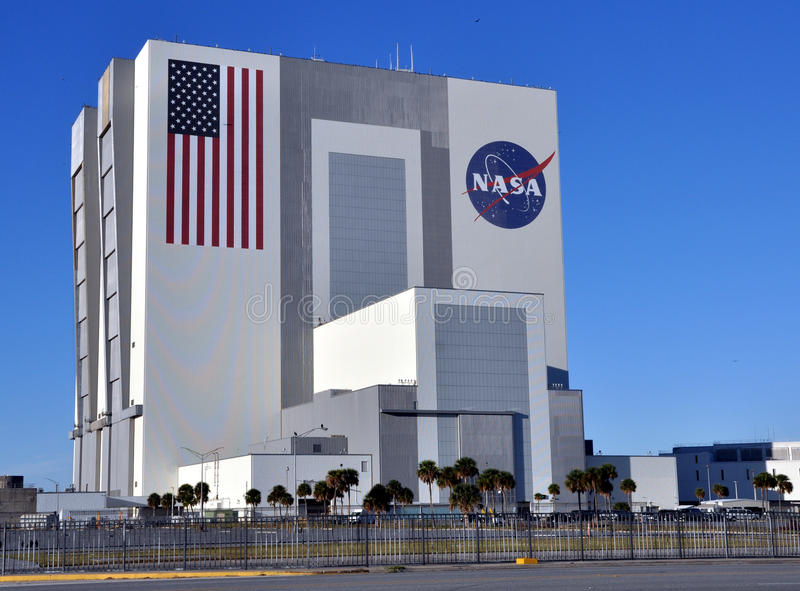NASA: (461, 141, 558, 229)
